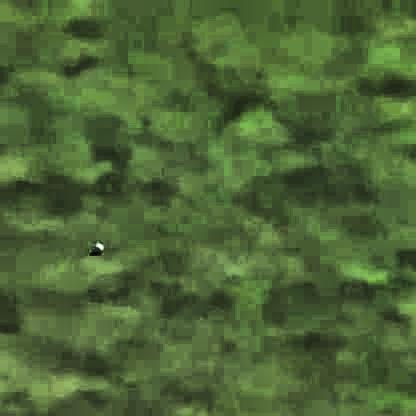golfball: (92, 243, 105, 253)
